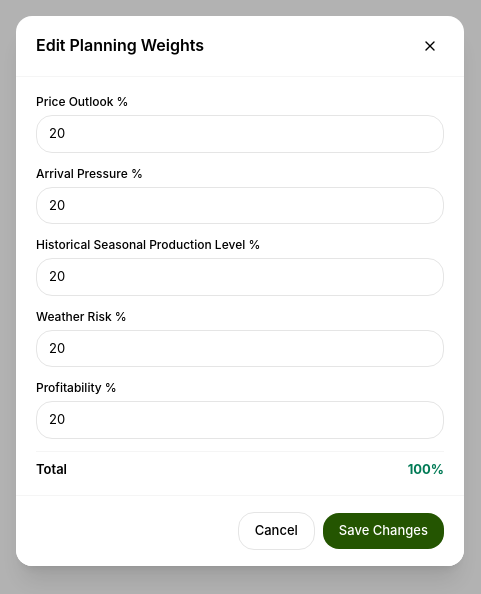
Test: EditWeightModal › reports success once the write resolves
The image size is (481, 594).
Click the button "Save Changes" at (383, 531), box [323, 513, 444, 549]
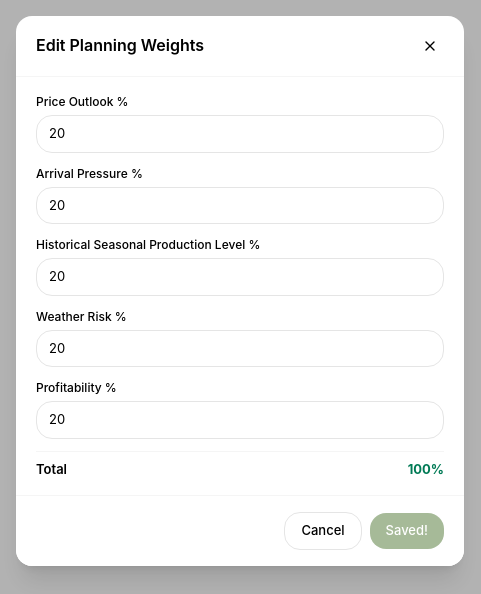
Now the button "Saved!" is shown, box [370, 513, 444, 549]
